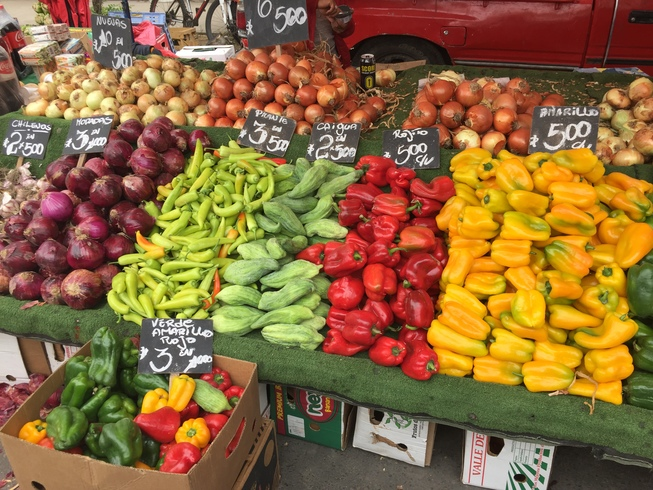precio: (139, 311, 224, 383), (525, 101, 601, 165), (233, 105, 302, 165), (381, 126, 449, 177), (305, 117, 363, 168), (4, 110, 56, 165), (64, 115, 114, 157)
